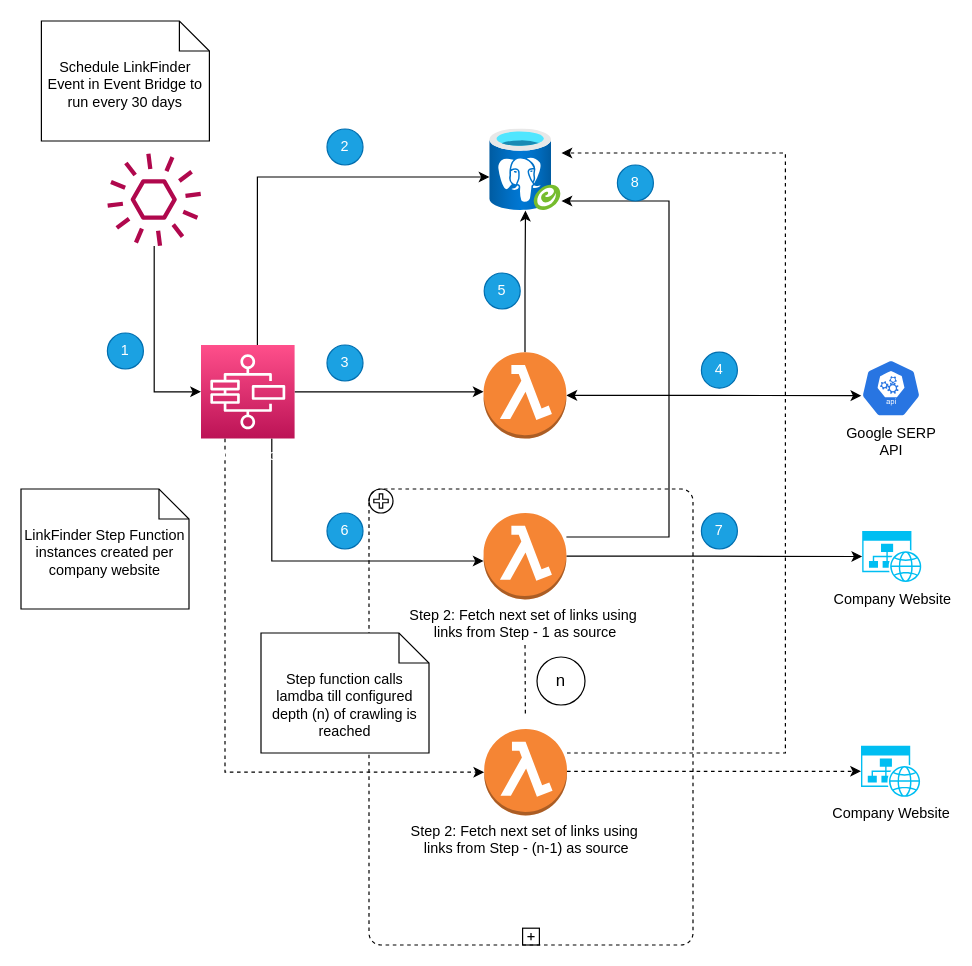
Some shapes in this 972 by 966 pixel diagram are drawn without their labels. Each missing label, with the box of its shape:
Postgres DB: (489, 128, 561, 210)
Processed in parallel: (368, 488, 693, 945)
Scheduled Event: (107, 152, 200, 246)
Step 1: Fetch Links from Seed Links: (482, 351, 566, 439)
